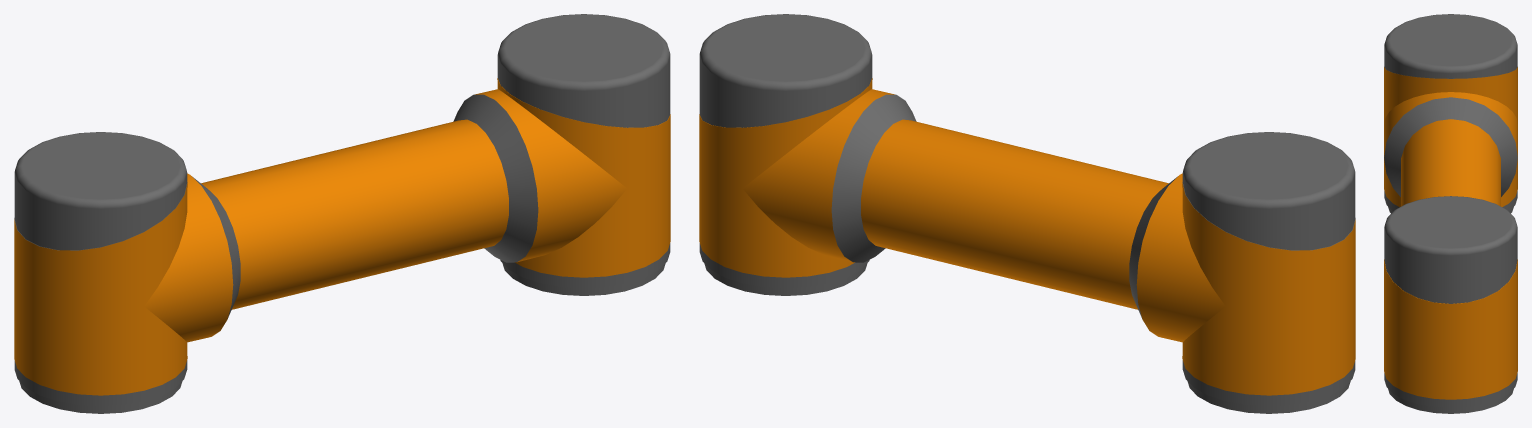
3 renders of one model, left to right at view 1: azimuth 30°, elevation 25°; view 2: azimuth 150°, elevation 25°; view 3: azimuth 270°, elevation 25°, orthographic. The views are drawn at different scales.
Parts seen in each view (by area): view 1: NONE; view 2: NONE; view 3: NONE.
Part boxes in pixels (x1,y1,x2,y2): NONE: (14,14,670,413); NONE: (699,14,1355,413); NONE: (1384,14,1517,413).
Bounding box in the file's own units: 0.498 × 0.118 × 0.1603.
